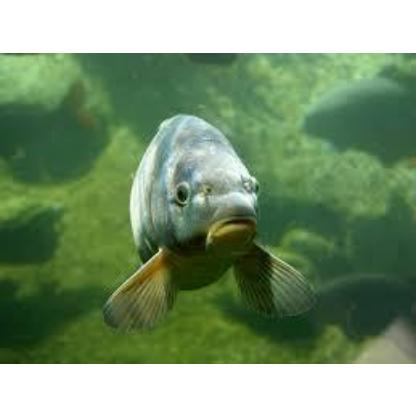ikan-mas: (104, 97, 286, 331)
